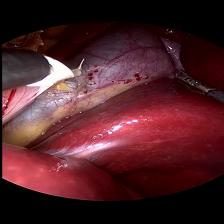Grasper: (160, 66, 218, 97)
Hook: (30, 53, 98, 94)
